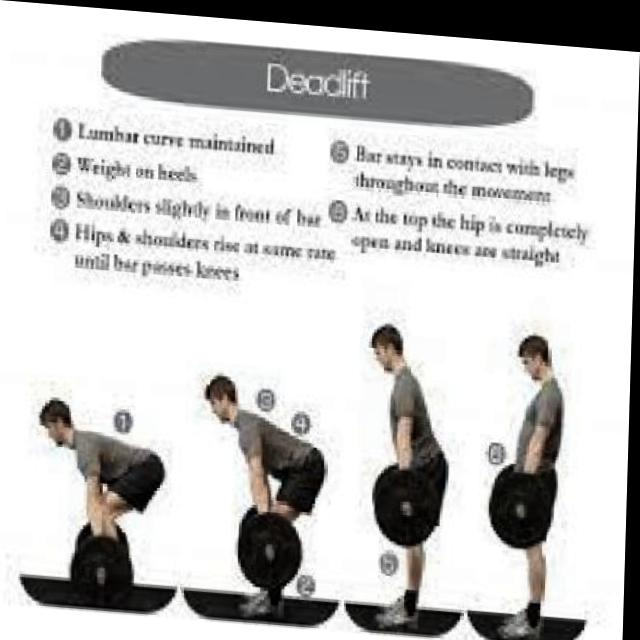barbell: (373, 454, 450, 547), (235, 501, 308, 589), (490, 459, 559, 544), (71, 530, 141, 613)
